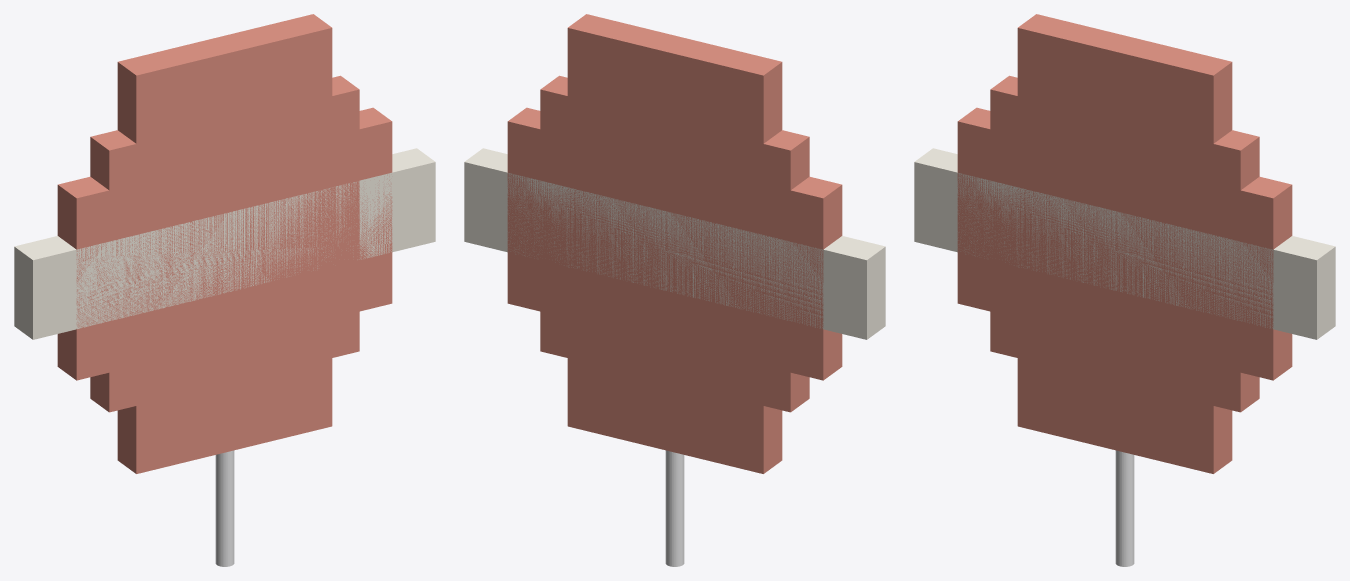
The model's file is MOD_BAKERY_ROOFTOP_ICON_001_LOD_CLOSE.glb.
3 renders of one model, left to right at view 1: azimuth 30°, elevation 25°; view 2: azimuth 150°, elevation 25°; view 3: azimuth 330°, elevation 25°, orthographic.
Visible parts, largest first — view 1: MOD_BAKERY_ROOFTOP_ICON_001_PASTRY_CREST_ICON_CLOSE_ICON, MOD_BAKERY_ROOFTOP_ICON_001_WHEAT_BUNDLE_ICON_CLOSE_ICON, MOD_BAKERY_ROOFTOP_ICON_001_BREAD_LOAF_ICON_CLOSE_ICON, MOD_BAKERY_ROOFTOP_ICON_001_ROLLING_PIN_ICON_CLOSE_ICON, MOD_BAKERY_ROOFTOP_ICON_001_BREAD_LOAF_ICON_CLOSE_STEM; view 2: MOD_BAKERY_ROOFTOP_ICON_001_BREAD_LOAF_ICON_CLOSE_ICON, MOD_BAKERY_ROOFTOP_ICON_001_WHEAT_BUNDLE_ICON_CLOSE_ICON, MOD_BAKERY_ROOFTOP_ICON_001_ROLLING_PIN_ICON_CLOSE_ICON, MOD_BAKERY_ROOFTOP_ICON_001_PASTRY_CREST_ICON_CLOSE_ICON, MOD_BAKERY_ROOFTOP_ICON_001_BREAD_LOAF_ICON_CLOSE_STEM; view 3: MOD_BAKERY_ROOFTOP_ICON_001_BREAD_LOAF_ICON_CLOSE_ICON, MOD_BAKERY_ROOFTOP_ICON_001_WHEAT_BUNDLE_ICON_CLOSE_ICON, MOD_BAKERY_ROOFTOP_ICON_001_ROLLING_PIN_ICON_CLOSE_ICON, MOD_BAKERY_ROOFTOP_ICON_001_PASTRY_CREST_ICON_CLOSE_ICON, MOD_BAKERY_ROOFTOP_ICON_001_BREAD_LOAF_ICON_CLOSE_STEM.
Boxes of the visible parts, x1,y1,x2,y2 form: MOD_BAKERY_ROOFTOP_ICON_001_PASTRY_CREST_ICON_CLOSE_ICON: [90, 75, 359, 412]; MOD_BAKERY_ROOFTOP_ICON_001_WHEAT_BUNDLE_ICON_CLOSE_ICON: [117, 14, 332, 473]; MOD_BAKERY_ROOFTOP_ICON_001_BREAD_LOAF_ICON_CLOSE_ICON: [57, 107, 392, 380]; MOD_BAKERY_ROOFTOP_ICON_001_ROLLING_PIN_ICON_CLOSE_ICON: [14, 148, 435, 339]; MOD_BAKERY_ROOFTOP_ICON_001_BREAD_LOAF_ICON_CLOSE_STEM: [215, 450, 234, 566]; MOD_BAKERY_ROOFTOP_ICON_001_BREAD_LOAF_ICON_CLOSE_ICON: [507, 107, 842, 380]; MOD_BAKERY_ROOFTOP_ICON_001_WHEAT_BUNDLE_ICON_CLOSE_ICON: [567, 14, 782, 473]; MOD_BAKERY_ROOFTOP_ICON_001_ROLLING_PIN_ICON_CLOSE_ICON: [464, 148, 885, 339]; MOD_BAKERY_ROOFTOP_ICON_001_PASTRY_CREST_ICON_CLOSE_ICON: [540, 75, 809, 412]; MOD_BAKERY_ROOFTOP_ICON_001_BREAD_LOAF_ICON_CLOSE_STEM: [665, 450, 684, 566]; MOD_BAKERY_ROOFTOP_ICON_001_BREAD_LOAF_ICON_CLOSE_ICON: [957, 107, 1292, 380]; MOD_BAKERY_ROOFTOP_ICON_001_WHEAT_BUNDLE_ICON_CLOSE_ICON: [1017, 14, 1232, 473]; MOD_BAKERY_ROOFTOP_ICON_001_ROLLING_PIN_ICON_CLOSE_ICON: [914, 148, 1335, 339]; MOD_BAKERY_ROOFTOP_ICON_001_PASTRY_CREST_ICON_CLOSE_ICON: [990, 75, 1259, 412]; MOD_BAKERY_ROOFTOP_ICON_001_BREAD_LOAF_ICON_CLOSE_STEM: [1115, 450, 1134, 566].
Size of the model in its own units: 1.48 by 1.82 by 0.12.
